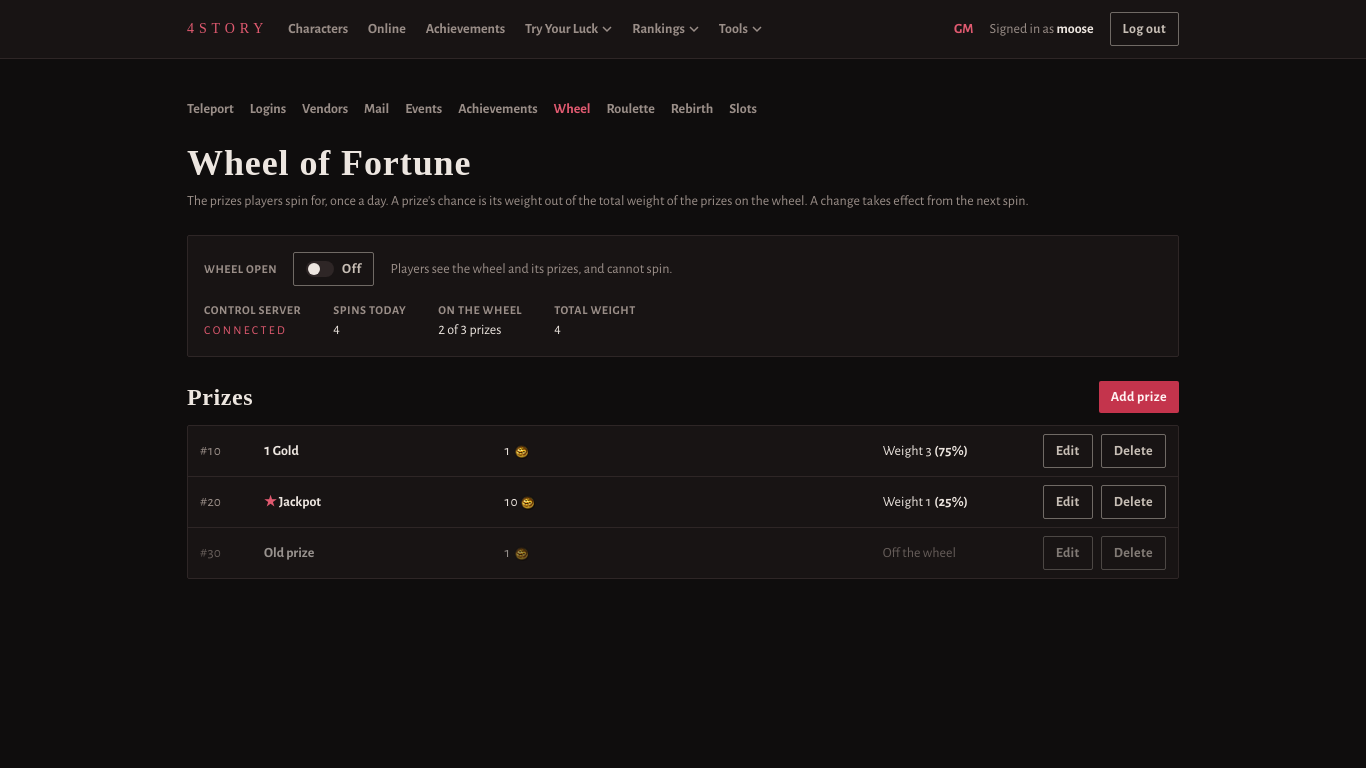
GM wheel page › opening the wheel › shows why the switch could not be saved
Click the switch named "Wheel open" at (334, 269), box x1=293 y1=252 x2=374 y2=286
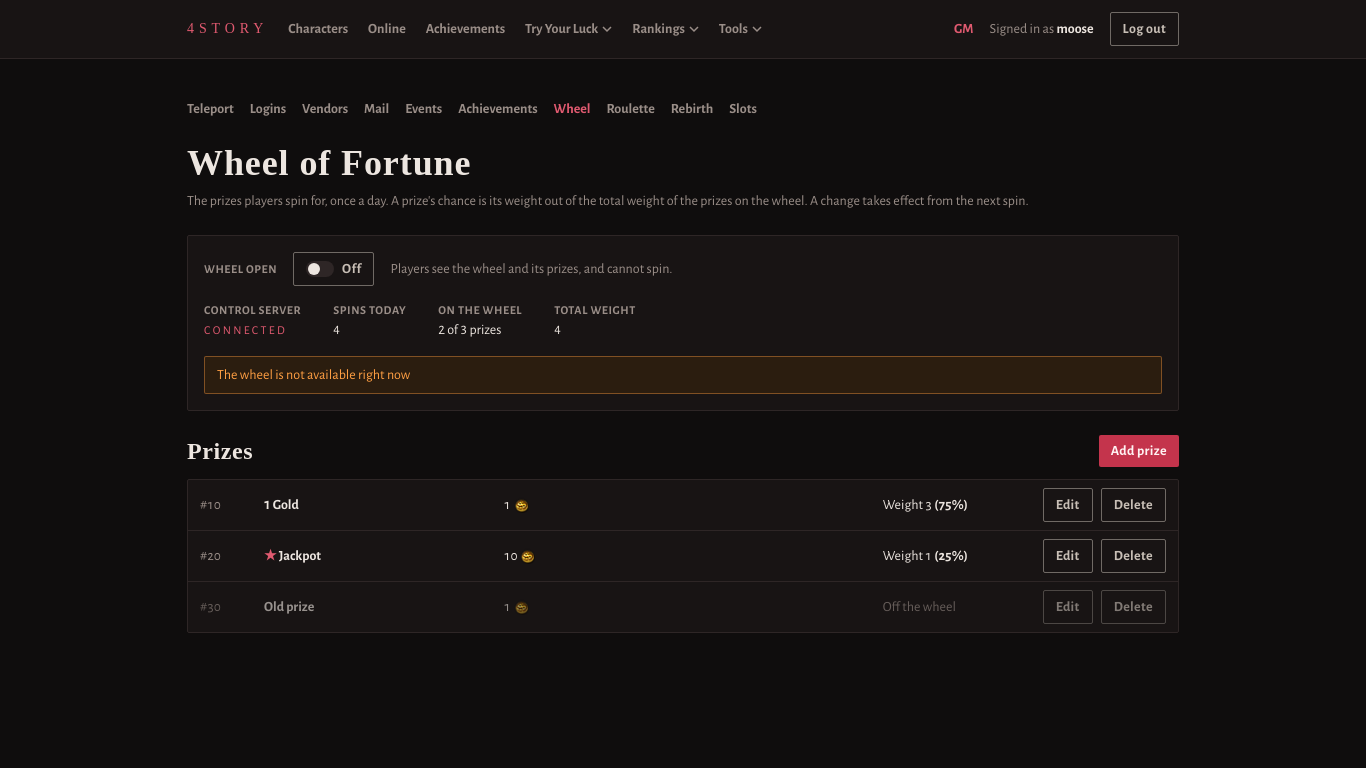
Check: the message "The wheel is not available right now" is shown, box x1=204 y1=356 x2=1162 y2=394
